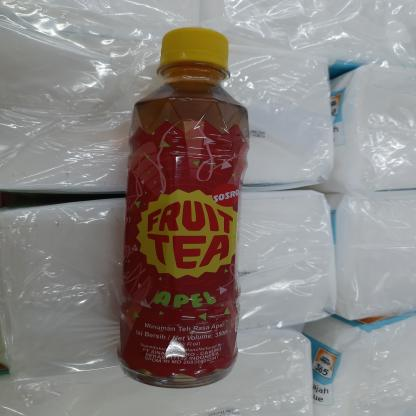bottle: (114, 26, 252, 393)
